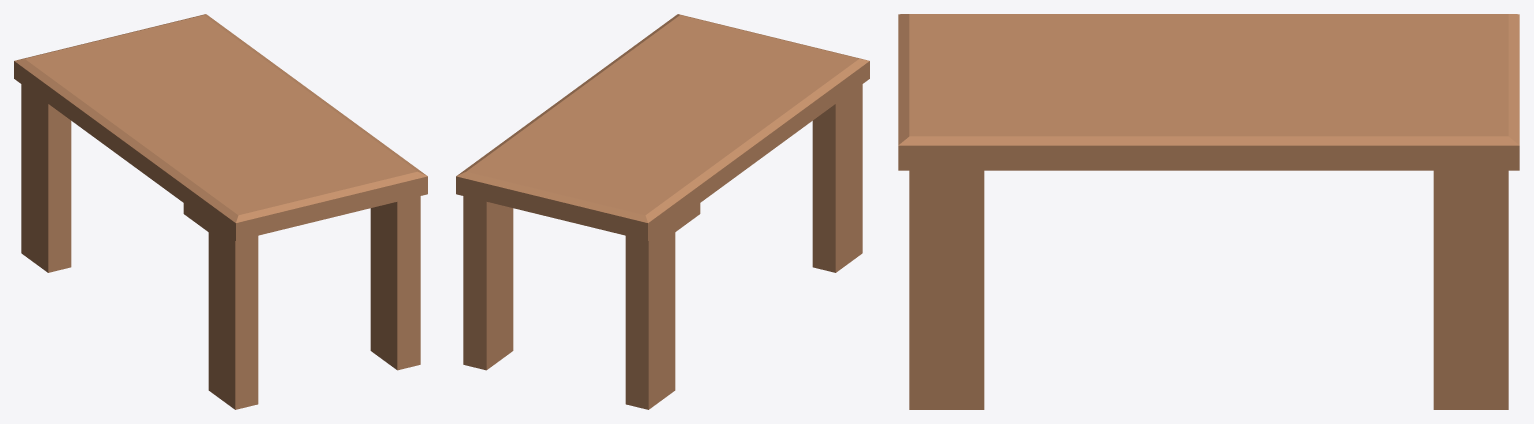
Rendered from Table.fbx.
3 renders of one model, left to right at view 1: azimuth 30°, elevation 25°; view 2: azimuth 150°, elevation 25°; view 3: azimuth 270°, elevation 25°, orthographic. The views are drawn at different scales.
Parts seen in each view (by area): view 1: Cube; view 2: Cube; view 3: Cube.
Boxes of the visible parts, <box> form: Cube: <box>14,14,427,409</box>; Cube: <box>456,14,869,409</box>; Cube: <box>898,14,1519,409</box>.
Bounding box in the file's own units: 207 × 200 × 415.
